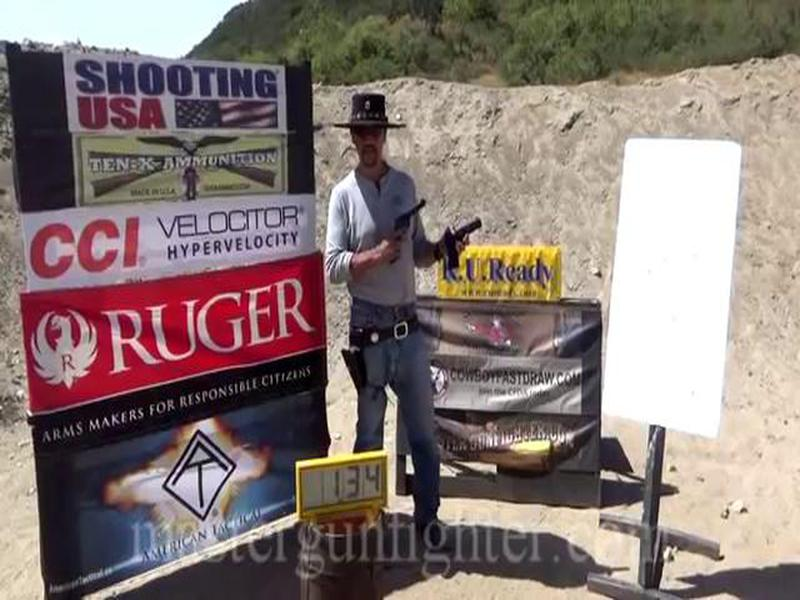Pistola: (441, 214, 491, 276)
Revolver: (380, 190, 428, 272)
